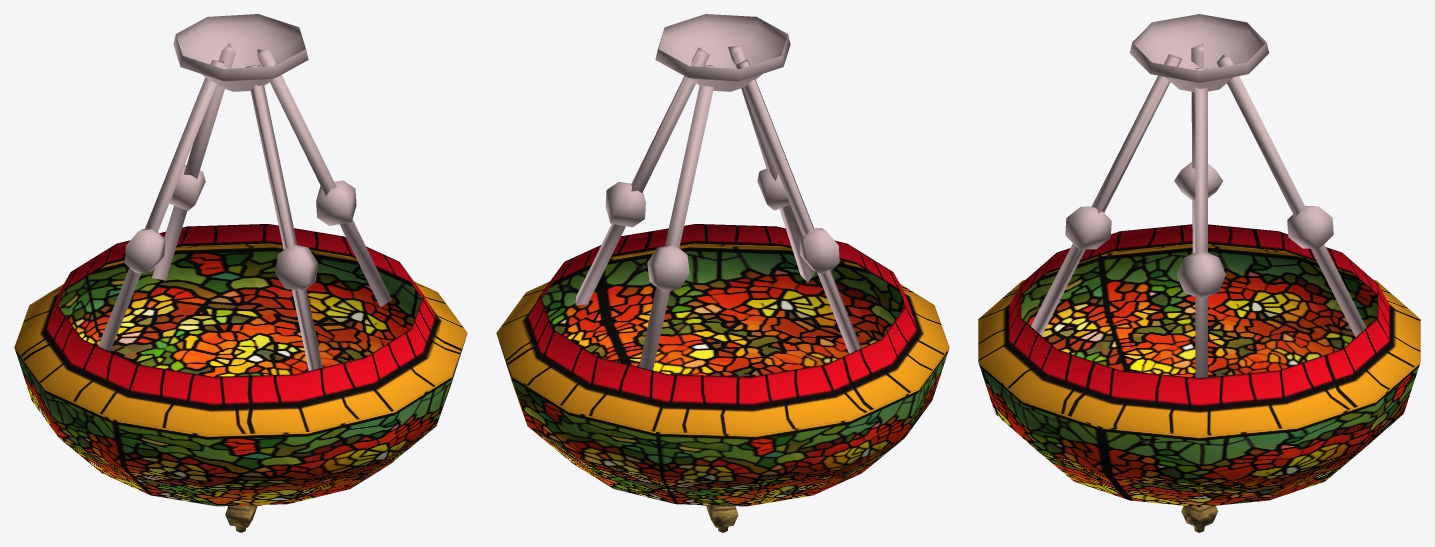
File: CeilingLamp.fbx
3 renders of one model, left to right at view 1: azimuth 30°, elevation 25°; view 2: azimuth 150°, elevation 25°; view 3: azimuth 270°, elevation 25°, orthographic.
Visible parts, largest first — view 1: Sphere; view 2: Sphere; view 3: Sphere.
Part boxes in pixels (<box>): Sphere: <box>14,14,467,532</box>; Sphere: <box>496,14,949,532</box>; Sphere: <box>978,14,1420,532</box>.
Size of the model in its own units: 255 by 304 by 249.
